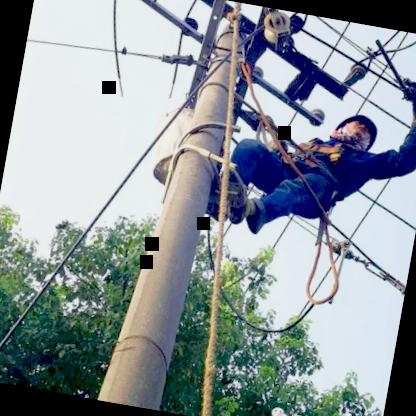helmet: (324, 106, 382, 157)
